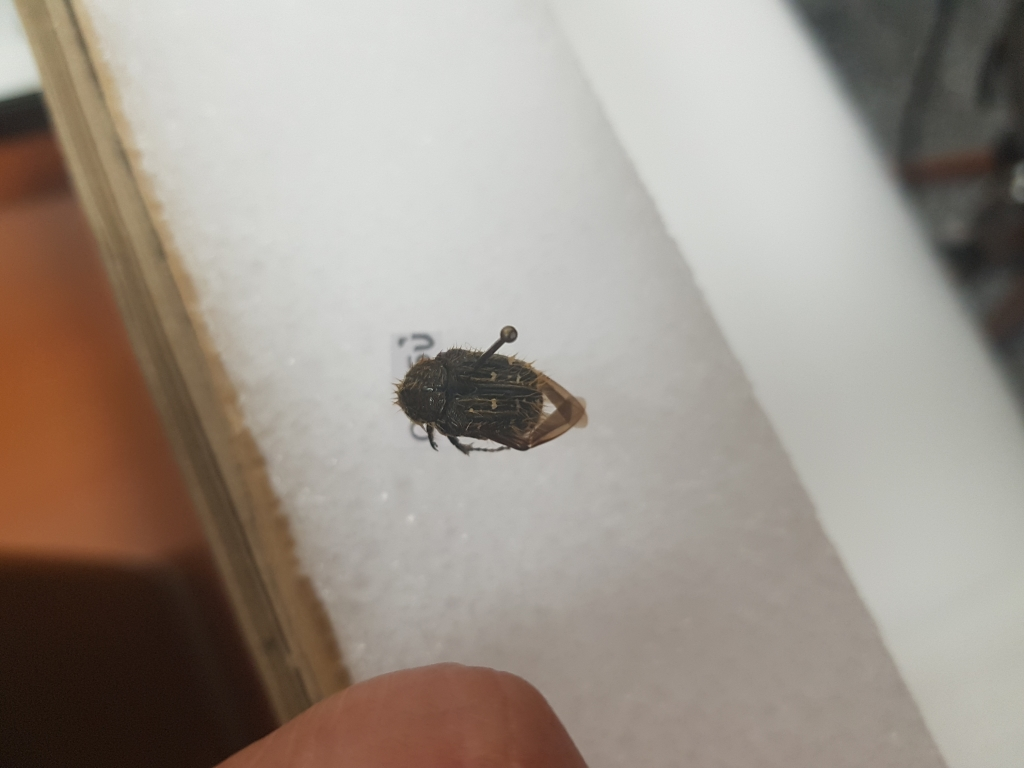Tropinota_hirta: (394, 346, 600, 450)
